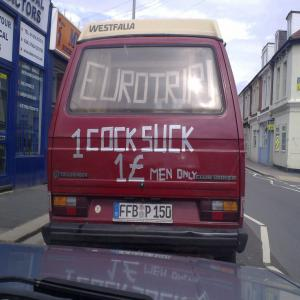Vehicle-registration-plate: (113, 206, 173, 230)
